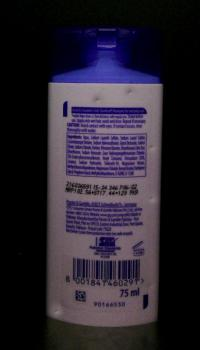dent_marginal: (50, 298, 71, 321), (85, 93, 105, 109), (120, 81, 136, 97), (145, 192, 157, 203)
